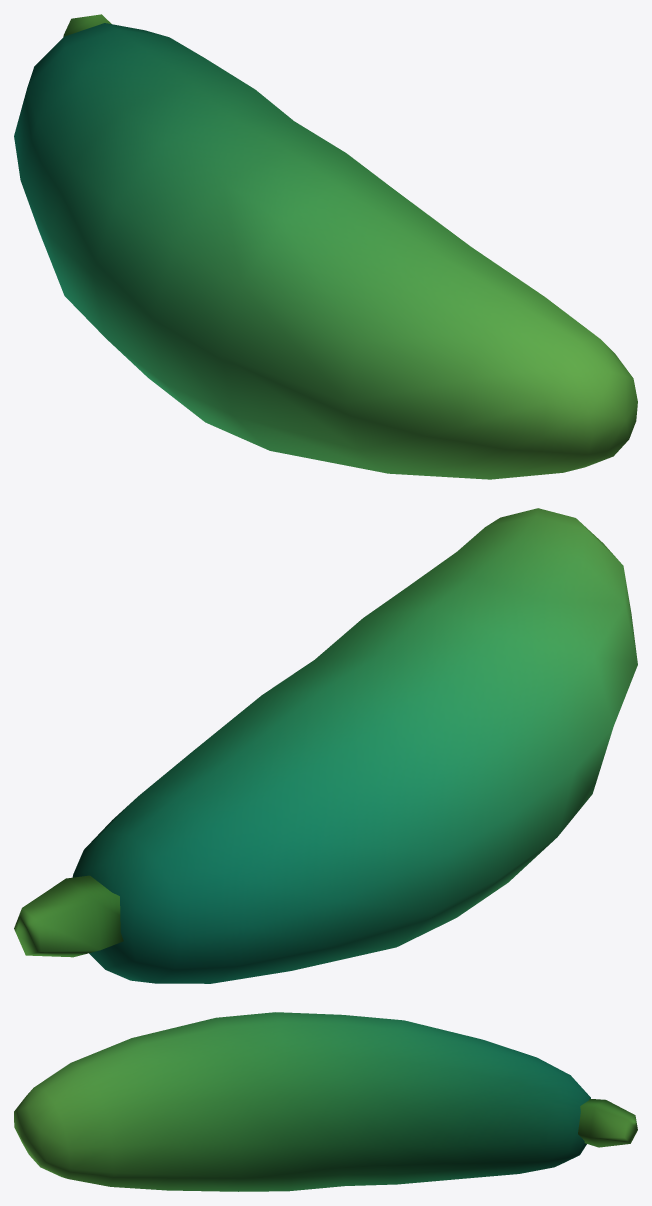
File: cucumber_001.fbx
3 renders of one model, top to bottom at view 1: azimuth 30°, elevation 25°; view 2: azimuth 150°, elevation 25°; view 3: azimuth 270°, elevation 25°, orthographic. The views are drawn at different scales.
Visible parts, largest first — view 1: cucumber_001; view 2: cucumber_001; view 3: cucumber_001.
Part boxes in pixels (x1,y1,x2,y2): cucumber_001: (14, 14, 637, 479); cucumber_001: (14, 508, 637, 983); cucumber_001: (14, 1012, 637, 1191).
Size of the model in its own units: 6.42 by 20.2 by 5.78.
